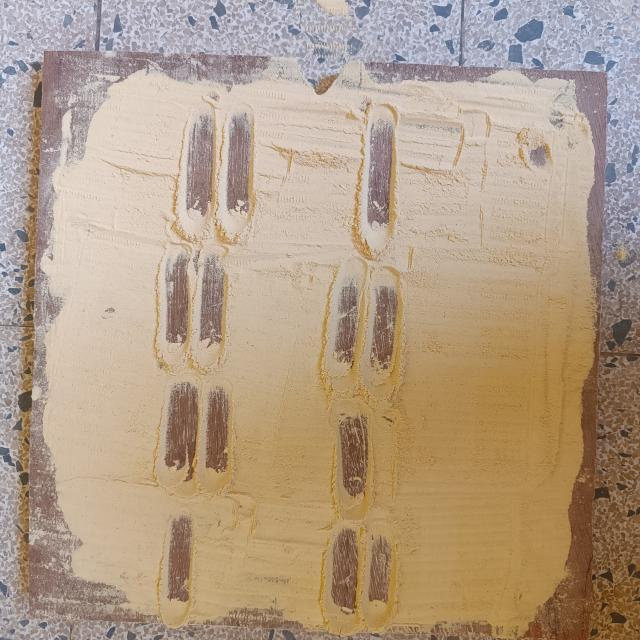double: (172, 102, 262, 253), (316, 254, 406, 402), (146, 371, 238, 498), (152, 248, 232, 378), (316, 522, 404, 636)
single: (356, 100, 399, 262), (328, 406, 374, 520), (154, 511, 196, 632)
